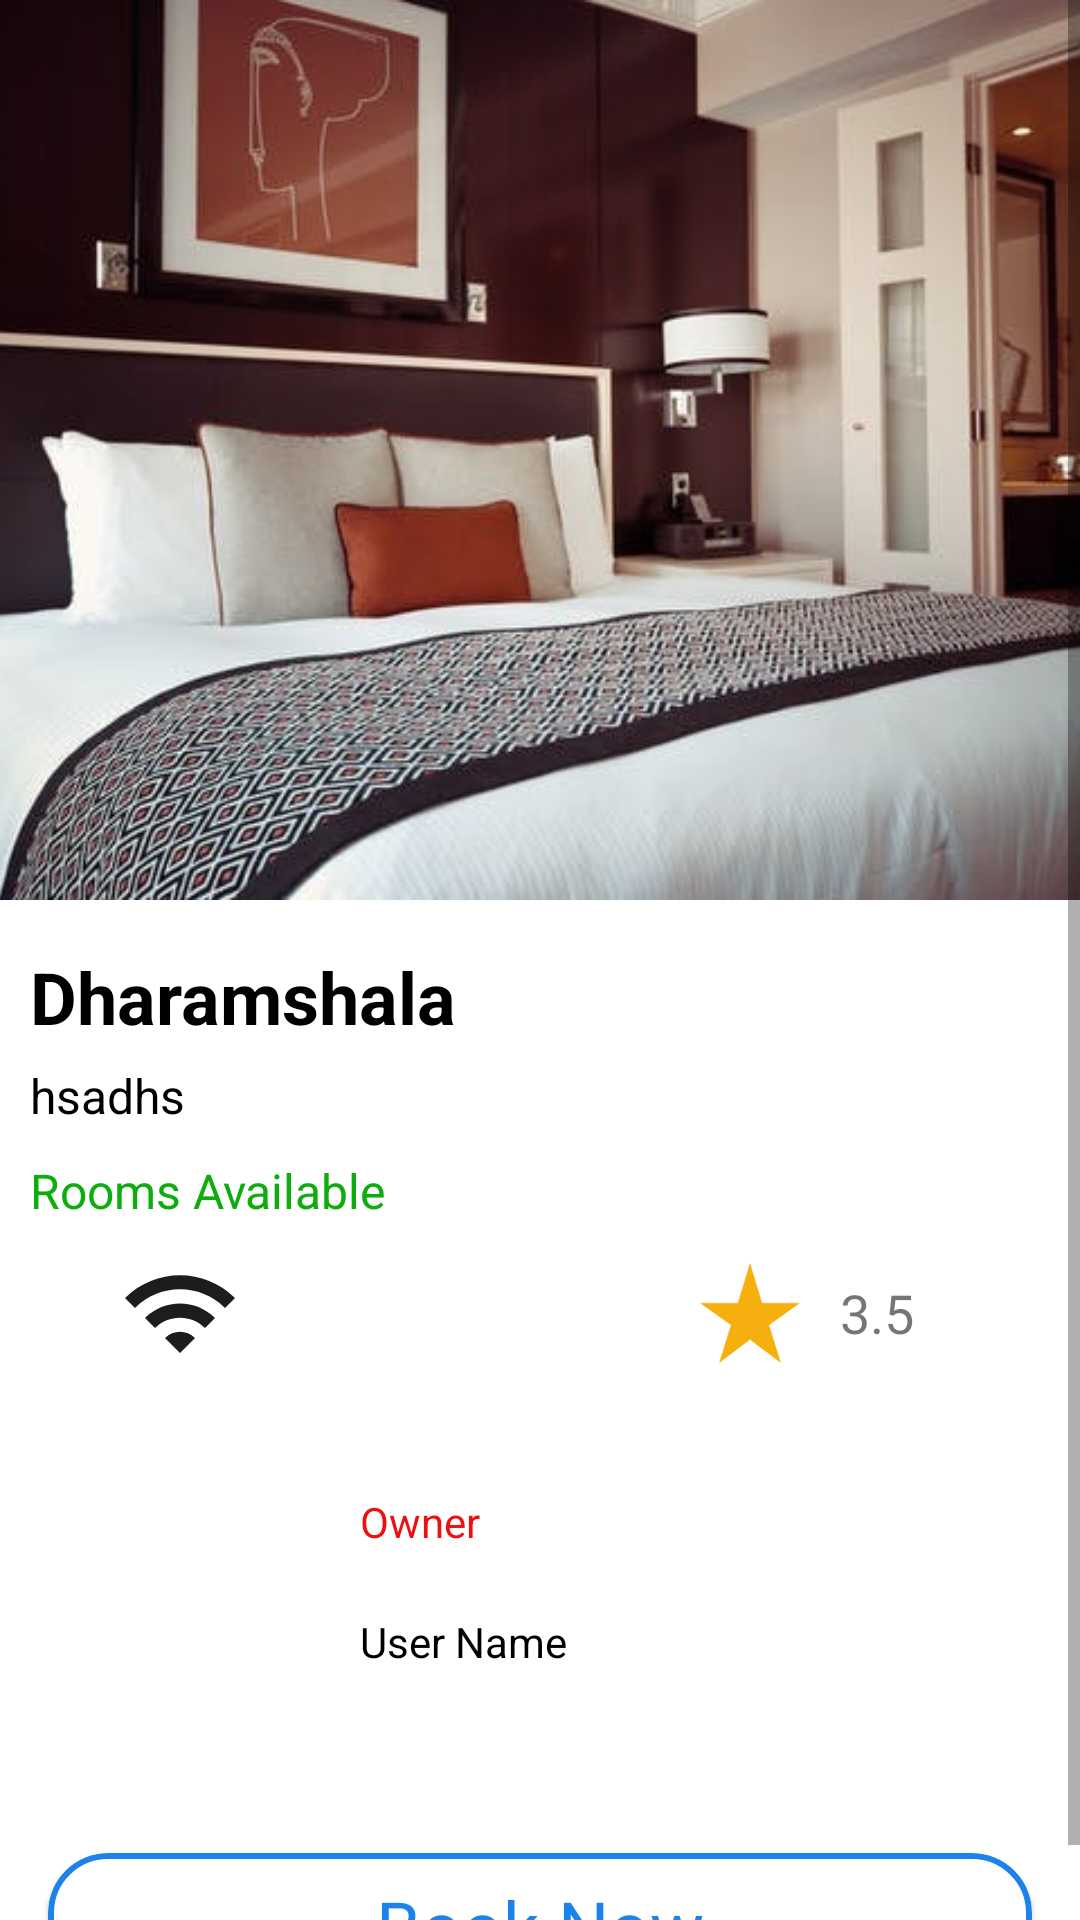

Icons on this 1080 x 1920 Android screen, each with its box as bbox=(x1, y1, x2, y2):
star rate: bbox=(700, 1263, 800, 1363)
wifi: bbox=(125, 1275, 235, 1353)
